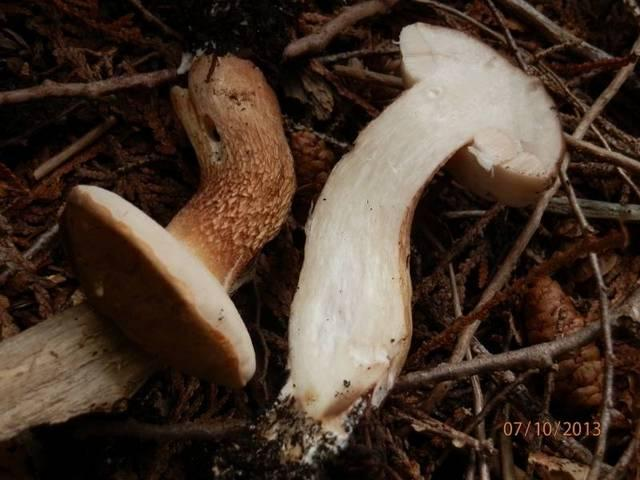Non-edible Mushroom: (256, 19, 566, 468), (60, 47, 297, 390)
